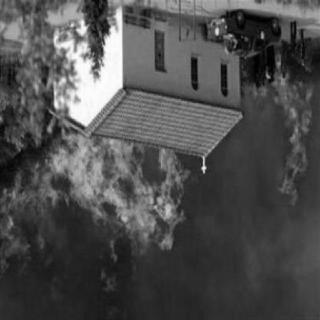Fire: (0, 135, 188, 269), (264, 58, 314, 200)
Smoke: (7, 269, 317, 319), (212, 205, 314, 263)
other: (207, 9, 284, 63)
